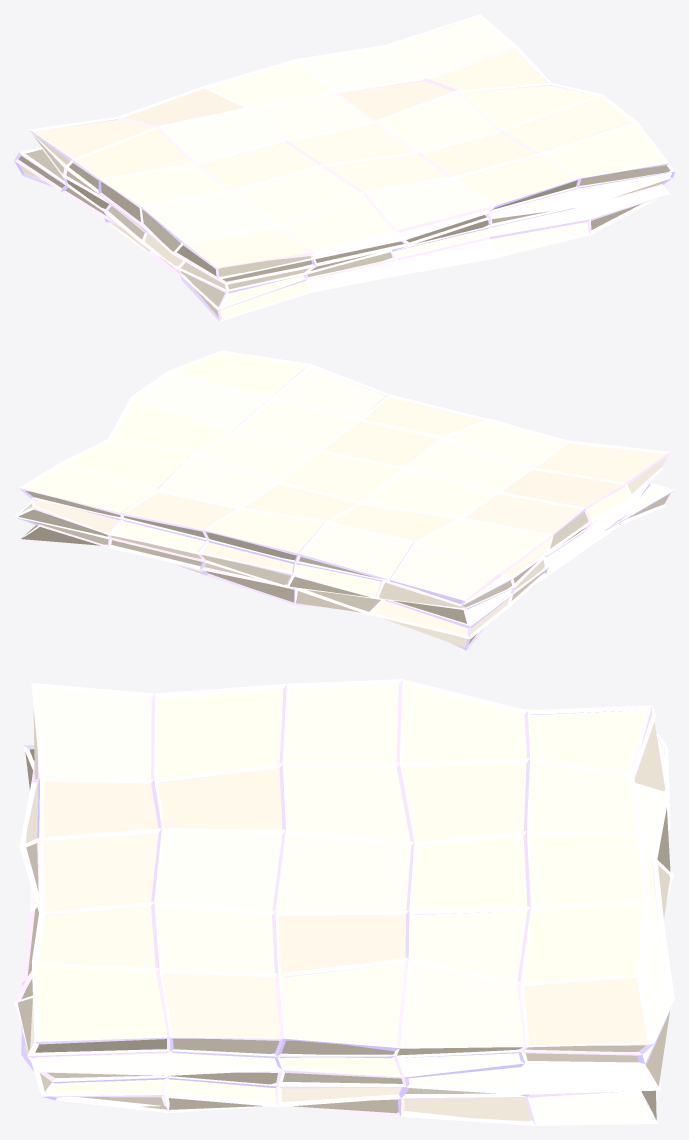
File: GaleryPlatform.glb
3 renders of one model, top to bottom at view 1: azimuth 30°, elevation 25°; view 2: azimuth 150°, elevation 25°; view 3: azimuth 270°, elevation 25°, orthographic. The views are drawn at different scales.
Parts seen in each view (by area): view 1: Slab_Small, AccentSlab_Small; view 2: Slab_Small, AccentSlab_Small; view 3: Slab_Small, AccentSlab_Small.
Part boxes in pixels (left/top/right/bottom): Slab_Small: left=19, top=17, right=671, bottom=317; AccentSlab_Small: left=14, top=14, right=674, bottom=321; Slab_Small: left=19, top=352, right=669, bottom=647; AccentSlab_Small: left=14, top=350, right=674, bottom=650; Slab_Small: left=18, top=684, right=670, bottom=1121; AccentSlab_Small: left=14, top=679, right=674, bottom=1125.
Size of the model in its own units: 3.18 by 0.4018 by 2.44.
